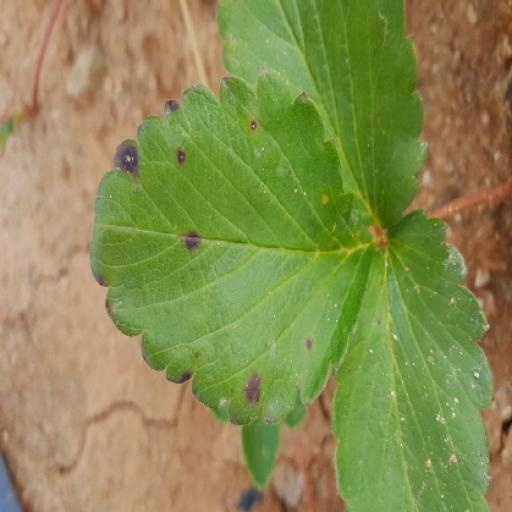Leaf Spot: (132, 66, 423, 426), (17, 209, 181, 511)
